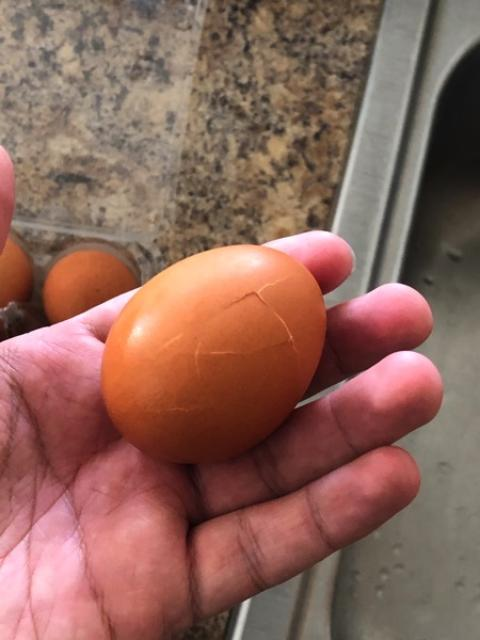Roto: (99, 242, 327, 464)
Sano: (43, 252, 139, 326), (0, 237, 31, 310)
